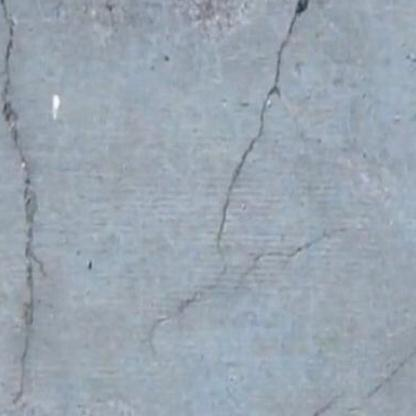Cracks: (140, 0, 341, 365), (0, 0, 45, 413), (268, 308, 416, 416)
